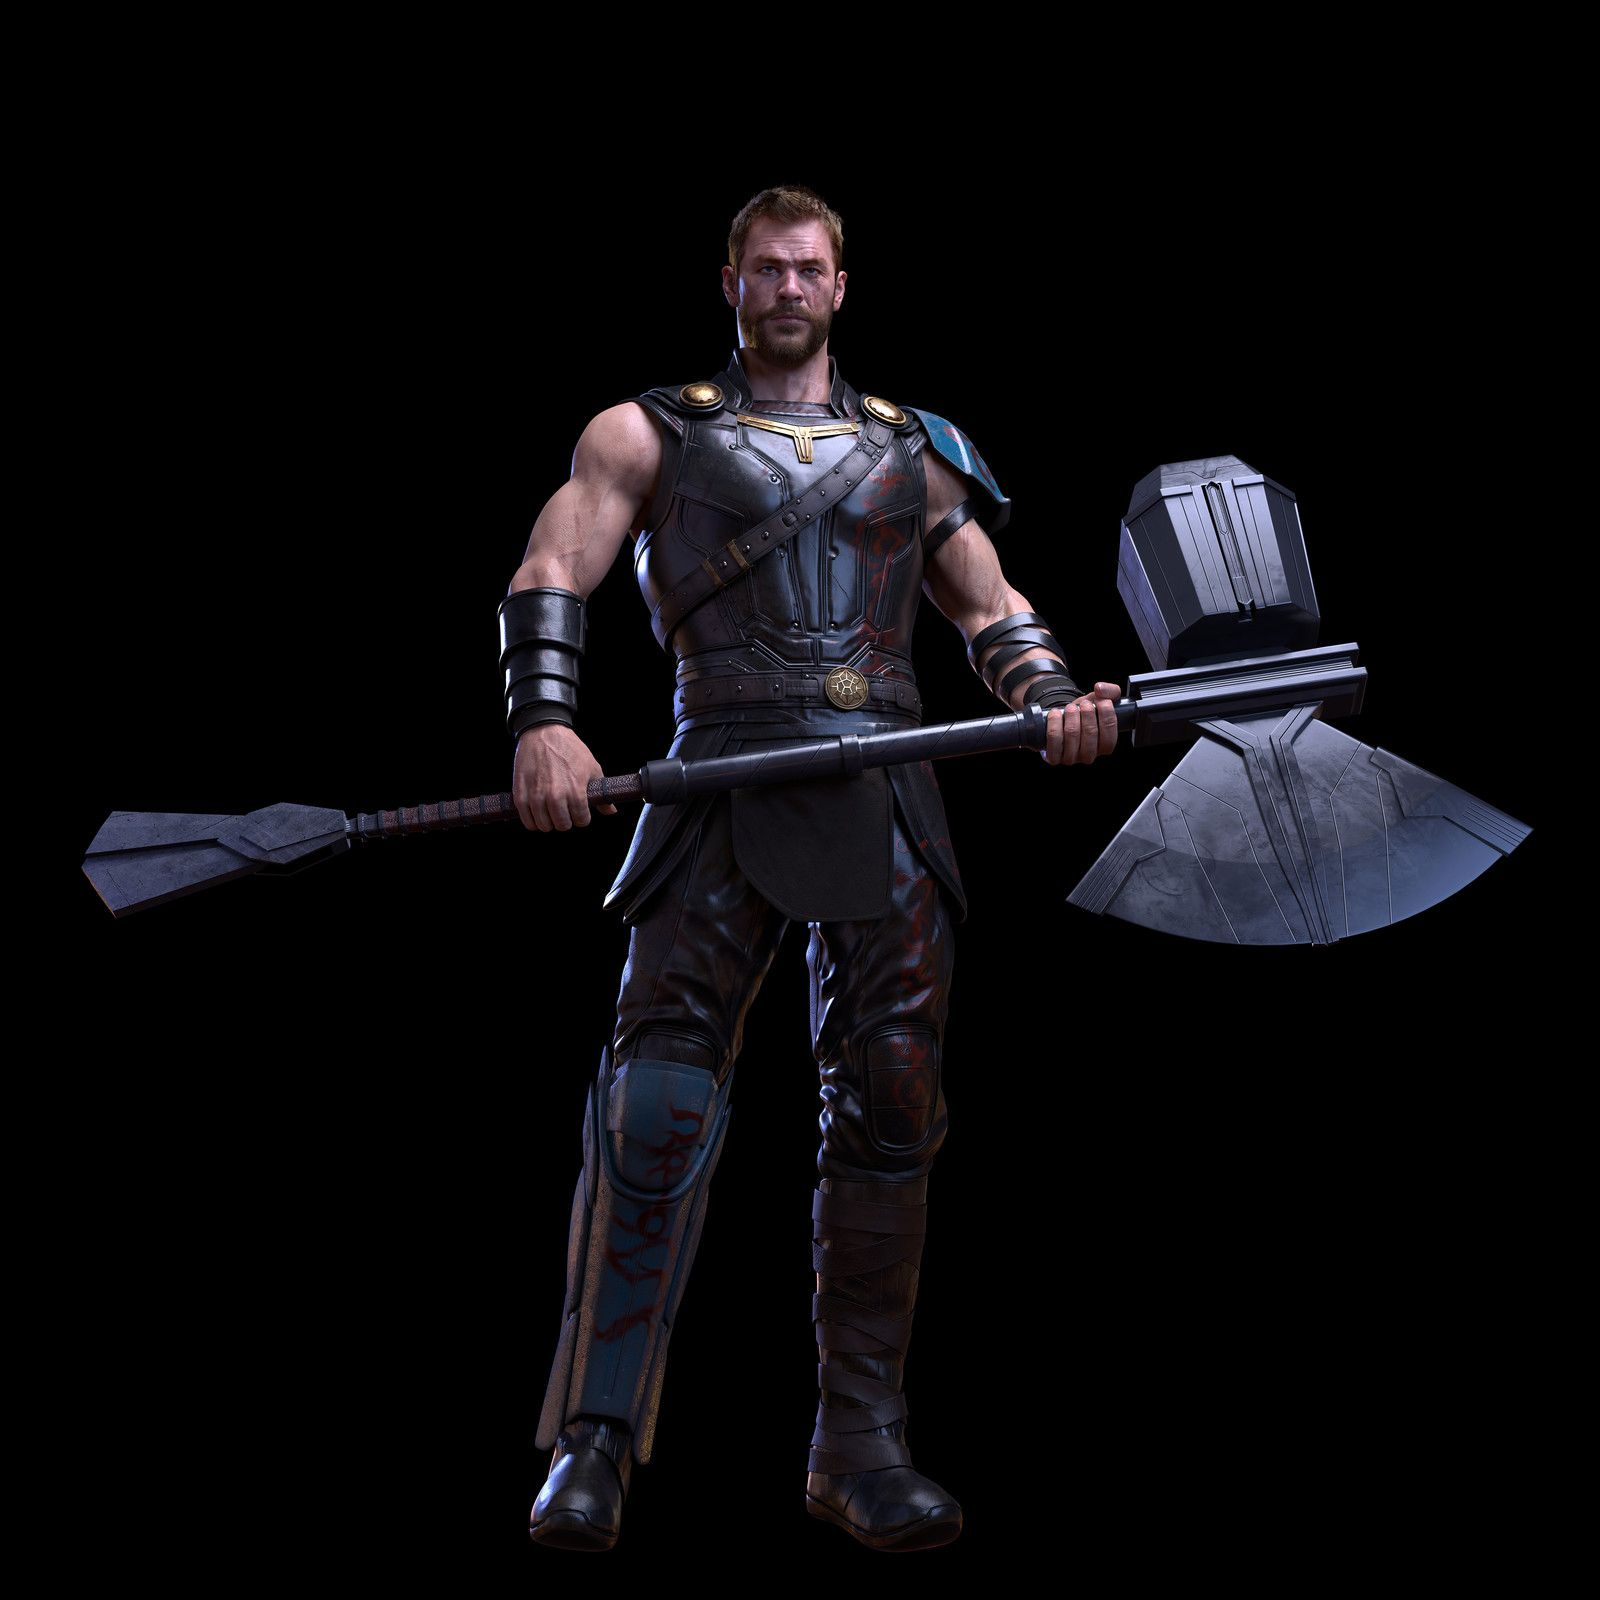THOR Hammer: (84, 412, 1556, 1007)
